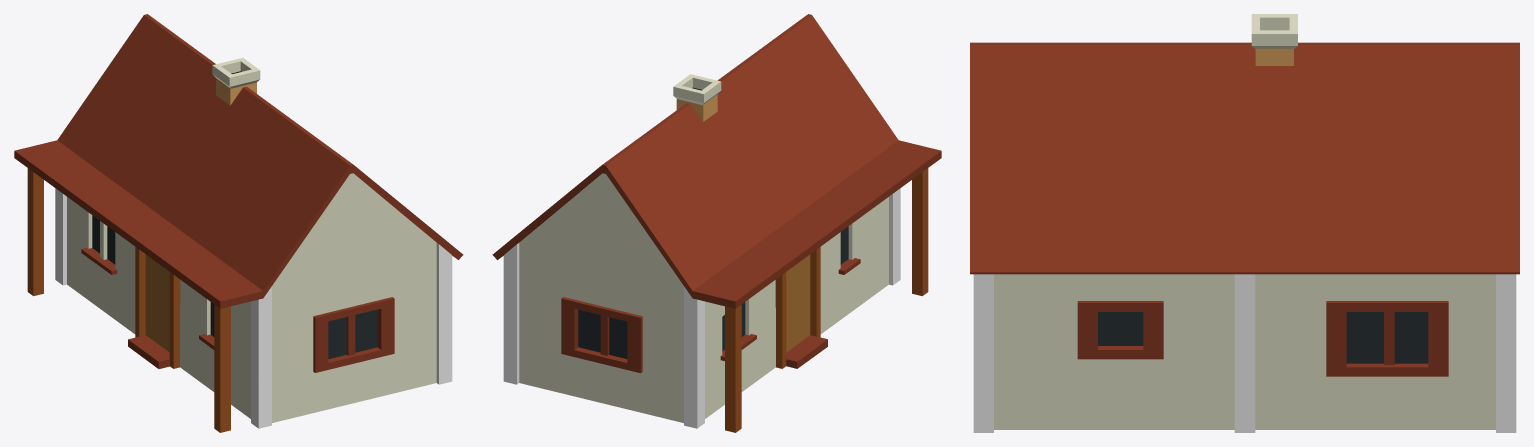
The model's file is house1.fbx.
The picture shows the model from 3 angles, left to right: view 1: azimuth 30°, elevation 25°; view 2: azimuth 150°, elevation 25°; view 3: azimuth 270°, elevation 25°; orthographic projection. The views are drawn at different scales.
Parts seen in each view (by area): view 1: house1; view 2: house1; view 3: house1.
Boxes of the visible parts, x1,y1,x2,y2 form: house1: [14, 14, 463, 432]; house1: [492, 14, 941, 432]; house1: [970, 14, 1519, 432].
Size of the model in its own units: 447 by 450 by 656.
